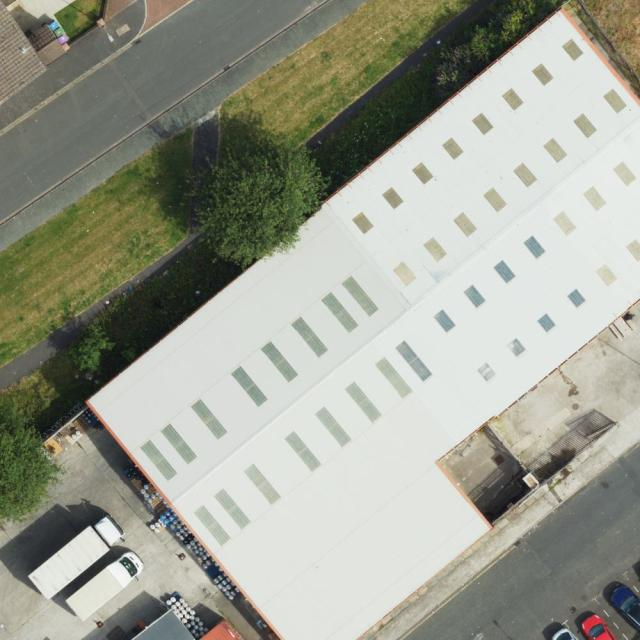roof: (90, 6, 640, 640), (1, 2, 66, 105)
skylight: (374, 354, 415, 402), (289, 314, 330, 359), (242, 462, 283, 507), (259, 339, 300, 383), (314, 405, 354, 450), (213, 487, 253, 532), (393, 340, 434, 383), (283, 430, 323, 474), (344, 380, 383, 425), (193, 504, 232, 548), (341, 274, 379, 318), (190, 398, 229, 440), (320, 291, 359, 333), (140, 439, 178, 482), (231, 365, 269, 407), (161, 424, 197, 465), (541, 135, 570, 166), (481, 185, 509, 216), (581, 184, 609, 212), (513, 161, 540, 189), (422, 235, 449, 263), (391, 260, 419, 287), (453, 210, 479, 239), (462, 283, 488, 311), (552, 209, 578, 237), (573, 112, 599, 140), (432, 308, 458, 334), (603, 88, 628, 114), (530, 62, 555, 88), (523, 234, 547, 261), (411, 162, 436, 187), (493, 258, 517, 284), (613, 160, 637, 186), (595, 262, 619, 287), (474, 360, 498, 385), (500, 87, 525, 111), (470, 111, 495, 135), (441, 136, 465, 160), (381, 186, 404, 211), (351, 211, 374, 236), (561, 38, 585, 61), (505, 337, 528, 359), (537, 311, 558, 334), (567, 287, 587, 309), (627, 238, 640, 263)
